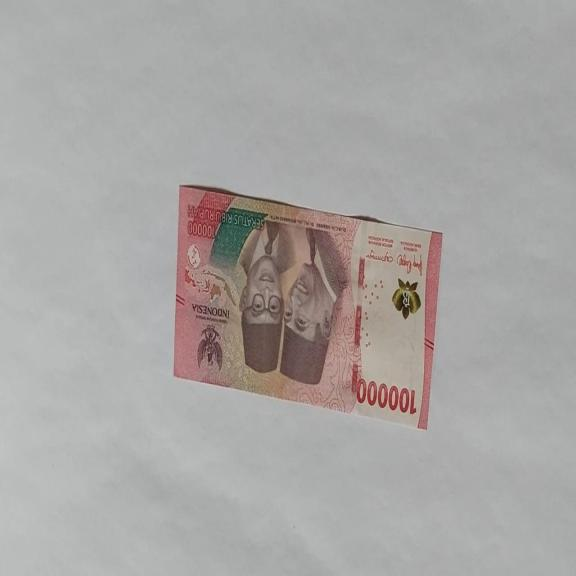Kertas: (172, 182, 444, 430), (354, 376, 417, 416)
